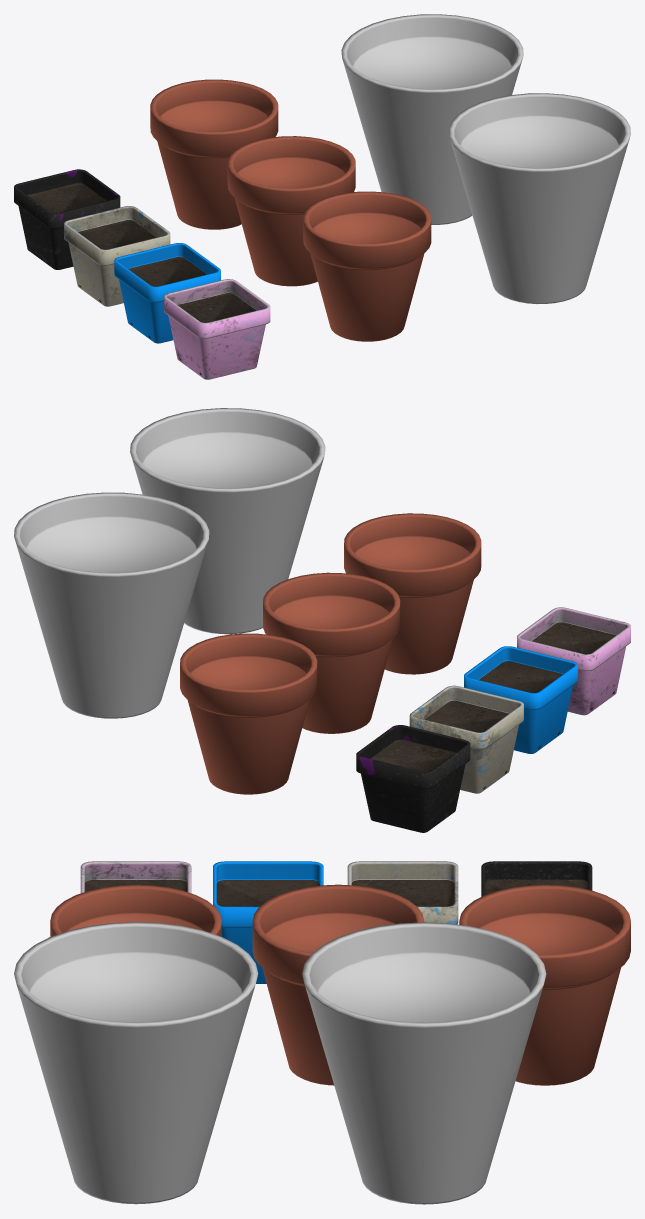
File: FlowerPots9.fbx
3 renders of one model, top to bottom at view 1: azimuth 30°, elevation 25°; view 2: azimuth 150°, elevation 25°; view 3: azimuth 270°, elevation 25°, orthographic. The views are drawn at different scales.
Parts seen in each view (by area): view 1: FlowerPotLPBlue, FlowerPotLPWhite, FlowerPotCLP1, FlowerPotCLP3, FlowerPotCLP2, FlowerPotSquare1, FlowerPotSquare3, FlowerPotSquare4, FlowerPotSquare2; view 2: FlowerPotLPWhite, FlowerPotLPBlue, FlowerPotCLP3, FlowerPotCLP2, FlowerPotCLP1, FlowerPotSquare4, FlowerPotSquare2, FlowerPotSquare3, FlowerPotSquare1; view 3: FlowerPotLPWhite, FlowerPotLPBlue, FlowerPotCLP3, FlowerPotCLP2, FlowerPotCLP1, FlowerPotSquare2, FlowerPotSquare3, FlowerPotSquare4, FlowerPotSquare1.
Boxes of the visible parts, box(x1,y1,x2,y2) form: FlowerPotLPBlue: box(448, 93, 630, 304); FlowerPotLPWhite: box(341, 14, 523, 224); FlowerPotCLP1: box(303, 191, 431, 341); FlowerPotCLP3: box(150, 79, 278, 229); FlowerPotCLP2: box(227, 136, 355, 286); FlowerPotSquare1: box(164, 279, 270, 379); FlowerPotSquare3: box(64, 206, 170, 306); FlowerPotSquare4: box(14, 169, 120, 269); FlowerPotSquare2: box(114, 243, 220, 343); FlowerPotLPWhite: box(14, 492, 209, 718); FlowerPotLPBlue: box(130, 408, 325, 634); FlowerPotCLP3: box(180, 633, 317, 794); FlowerPotCLP2: box(263, 572, 400, 733); FlowerPotCLP1: box(344, 513, 481, 674); FlowerPotSquare4: box(356, 725, 470, 832); FlowerPotSquare2: box(464, 646, 577, 753); FlowerPotSquare3: box(409, 685, 523, 793); FlowerPotSquare1: box(517, 607, 630, 715); FlowerPotLPWhite: box(302, 922, 546, 1204); FlowerPotLPBlue: box(14, 922, 258, 1204); FlowerPotCLP3: box(459, 884, 630, 1085); FlowerPotCLP2: box(252, 884, 424, 1085); FlowerPotCLP1: box(50, 884, 221, 936); FlowerPotSquare2: box(213, 861, 323, 983); FlowerPotSquare3: box(347, 861, 458, 924); FlowerPotSquare4: box(481, 861, 592, 896); FlowerPotSquare1: box(80, 861, 191, 893).
Bounding box in the file's own units: 601 × 200 × 548.
